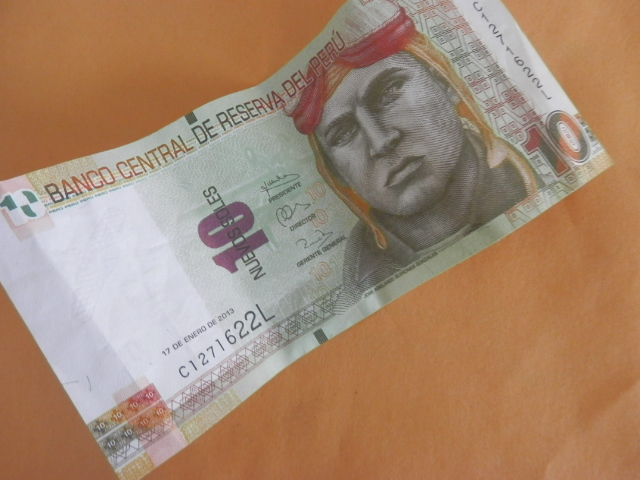B10: (2, 16, 608, 463)
